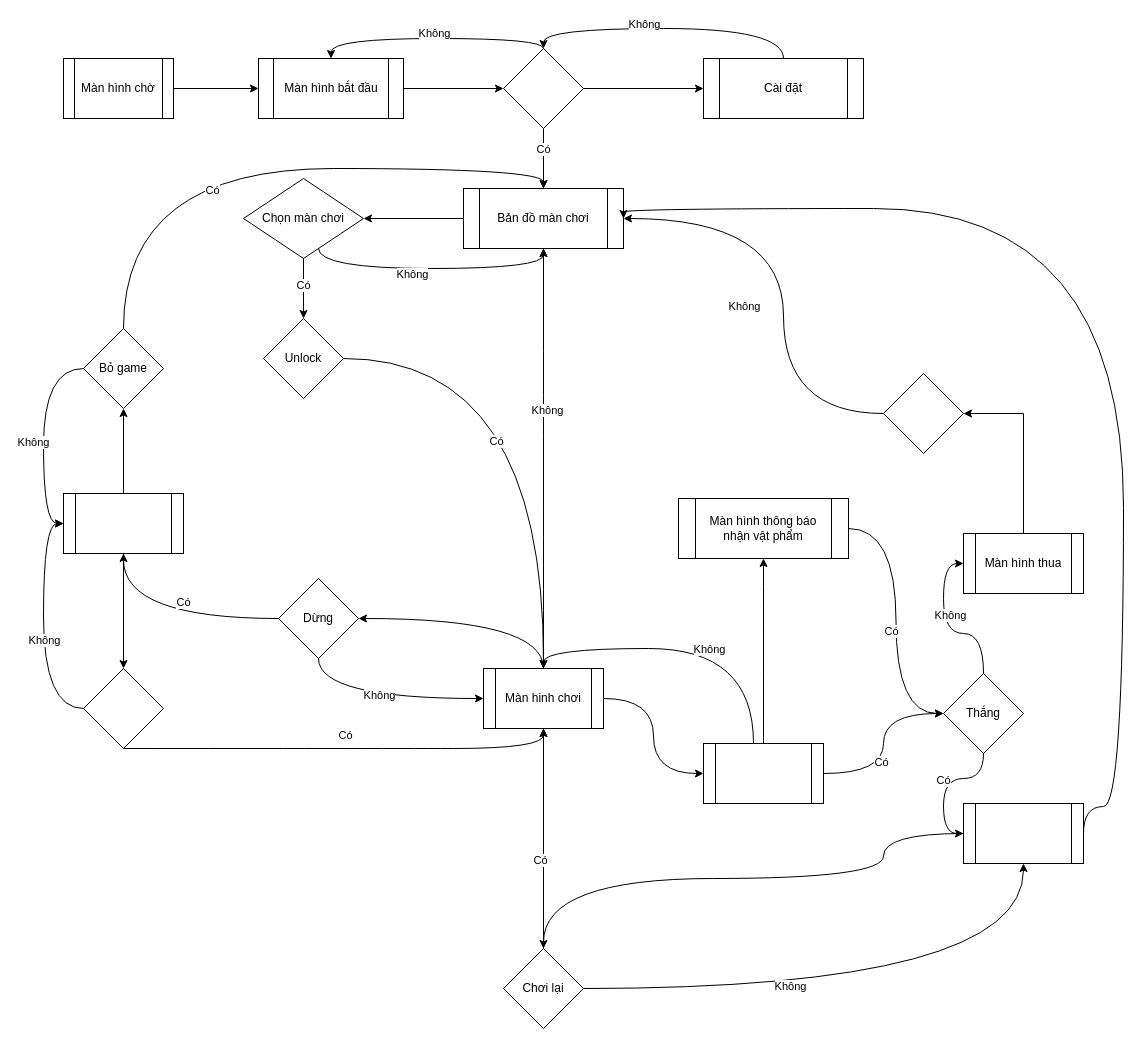
This 1141x1046 diagram has some shape labels left out. Each missing label, with the centre of its shape:
Bắt đầu: the point at 543,88
Màn hình dừng: the point at 123,523
Màn hình thông báo chiến thắng: the point at 763,773
Màn hình thắng: the point at 1023,833
Thử lại: the point at 923,413
Tiếp tục: the point at 123,708
